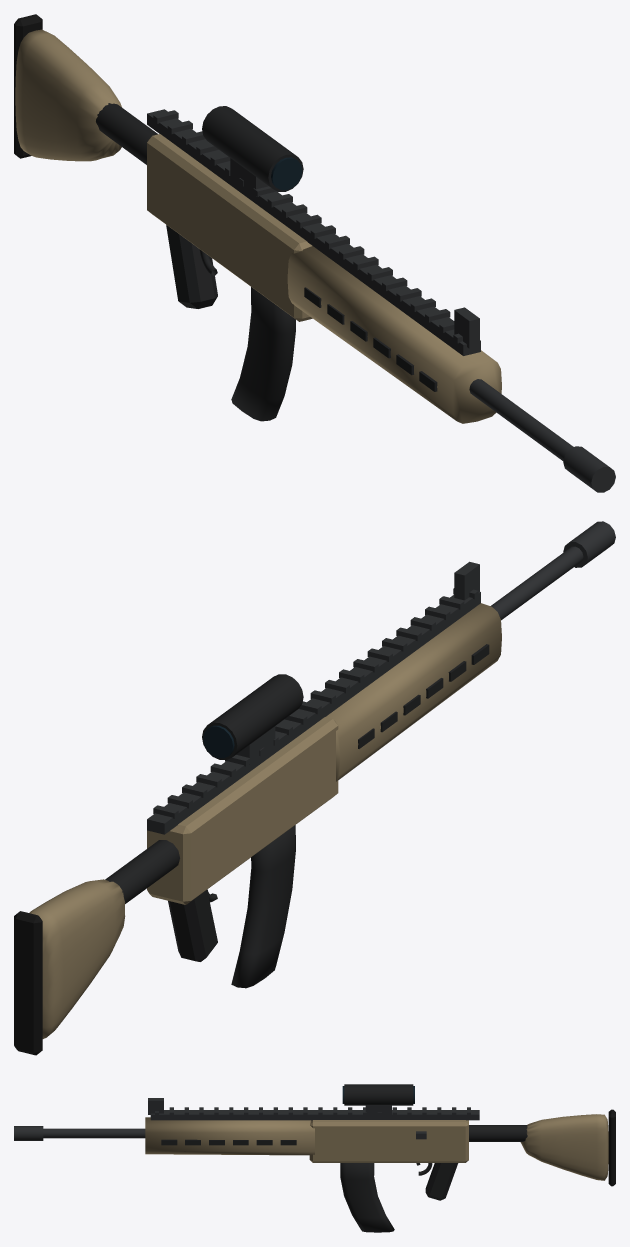
The model's file is rifle.glb.
The picture shows the model from 3 angles, top to bottom: view 1: azimuth 30°, elevation 25°; view 2: azimuth 150°, elevation 25°; view 3: azimuth 270°, elevation 25°; orthographic projection. The views are drawn at different scales.
Visible parts, largest first — view 1: rifle; view 2: rifle; view 3: rifle.
Part boxes in pixels (x1=…): rifle: x1=14, y1=14, x2=615, y2=492; rifle: x1=14, y1=521, x2=615, y2=1055; rifle: x1=14, y1=1084, x2=615, y2=1232.
Size of the model in its own units: 0.066 by 0.3 by 1.13.
